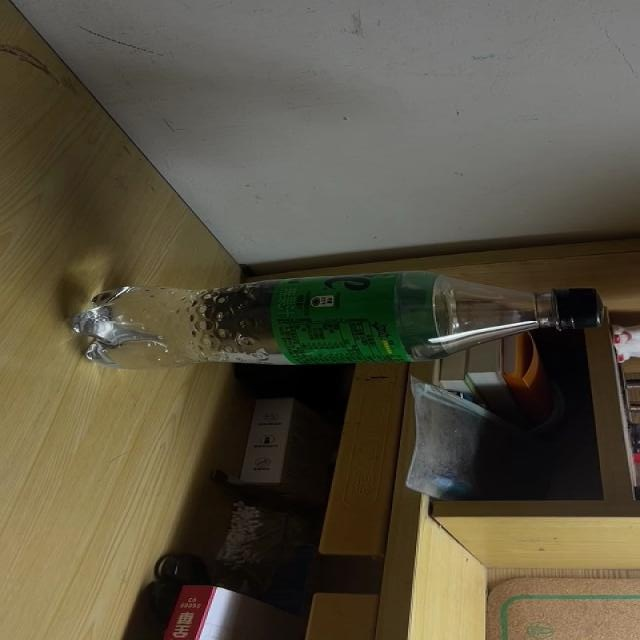Sprite: (72, 271, 604, 367)
